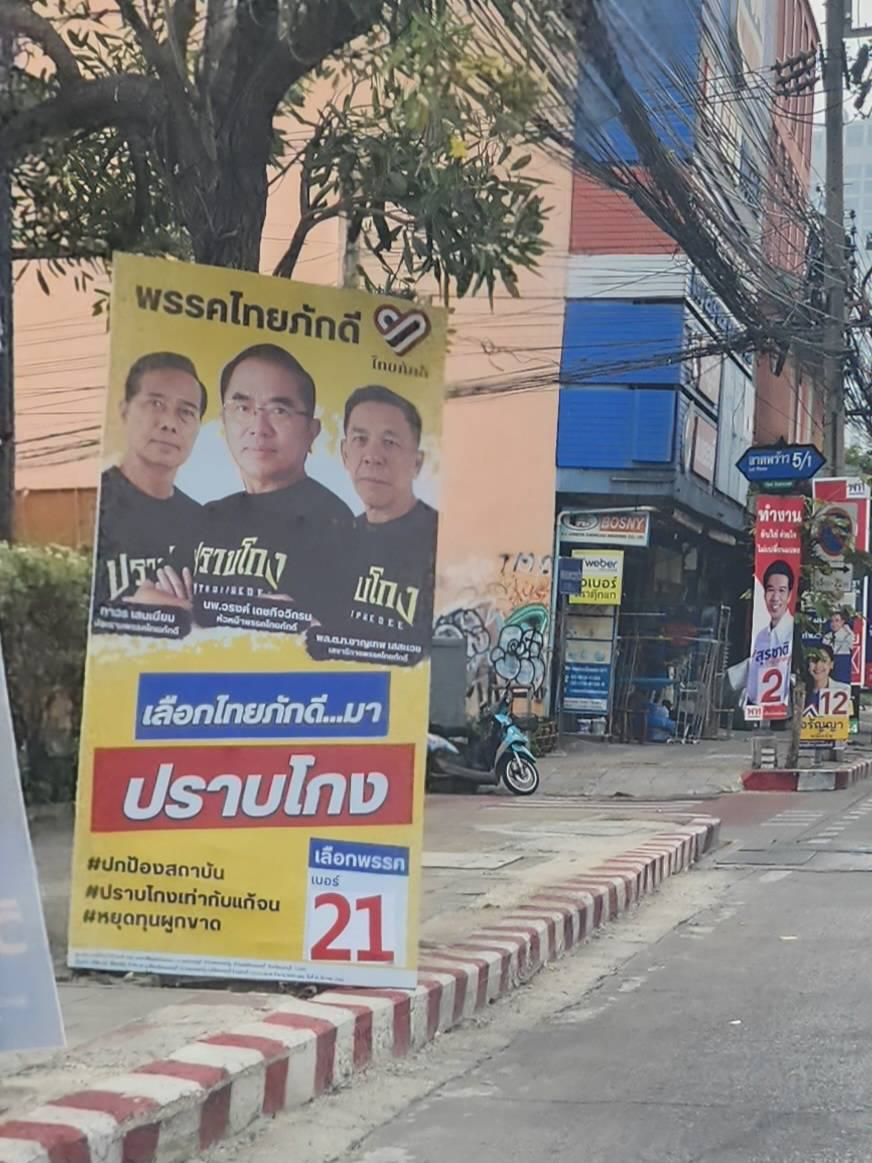Banner: (77, 255, 431, 981)
